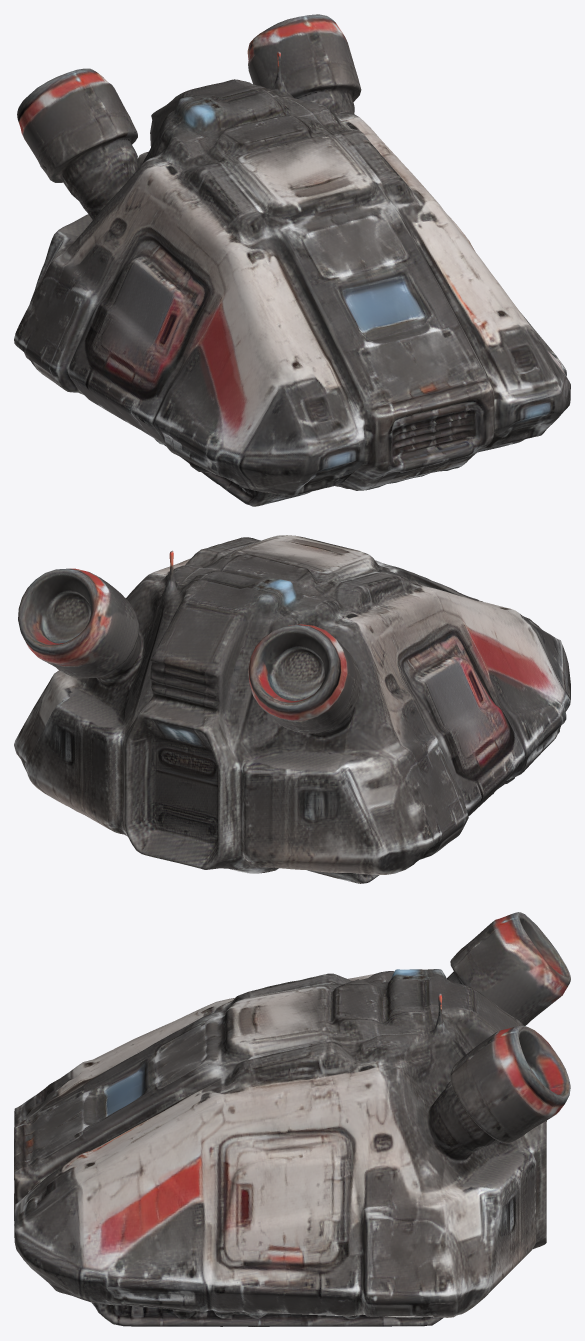
The model's file is EscapePod_base_basic_pbr.glb.
3 views of the same model, one above another, from view 1: azimuth 30°, elevation 25°; view 2: azimuth 150°, elevation 25°; view 3: azimuth 270°, elevation 25° (orthographic).
Parts seen in each view (by area): view 1: model; view 2: model; view 3: model.
Boxes of the visible parts, left/top/right/bottom form: model: left=14, top=14, right=570, bottom=506; model: left=14, top=535, right=570, bottom=883; model: left=14, top=912, right=570, bottom=1326.
Bounding box in the file's own units: 1.65 × 1.1 × 1.9.
1 material, 1 textured.
